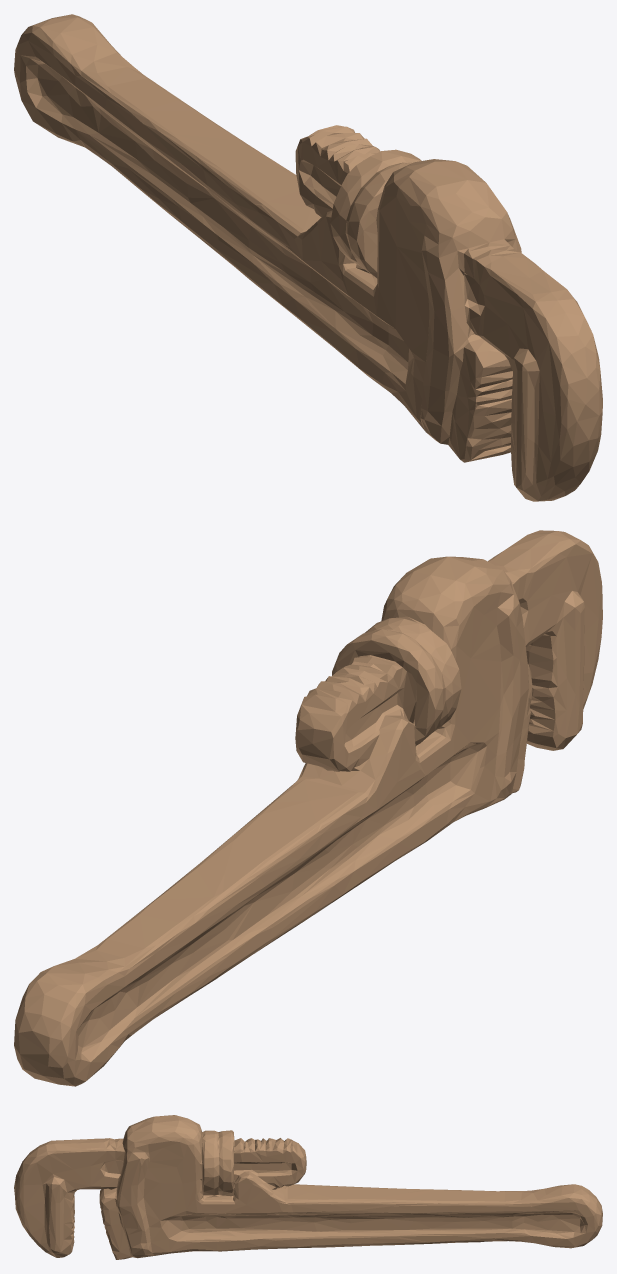
The model's file is pipe-wrench.glb.
The picture shows the model from 3 angles, top to bottom: view 1: azimuth 30°, elevation 25°; view 2: azimuth 150°, elevation 25°; view 3: azimuth 270°, elevation 25°; orthographic projection. The views are drawn at different scales.
Parts seen in each view (by area): view 1: world; view 2: world; view 3: world.
Boxes of the visible parts, x1,y1,x2,y2 form: world: (14, 14, 602, 501); world: (14, 530, 602, 1086); world: (14, 1115, 602, 1259).
Size of the model in its own units: 0.0549 by 0.1263 by 0.5.
